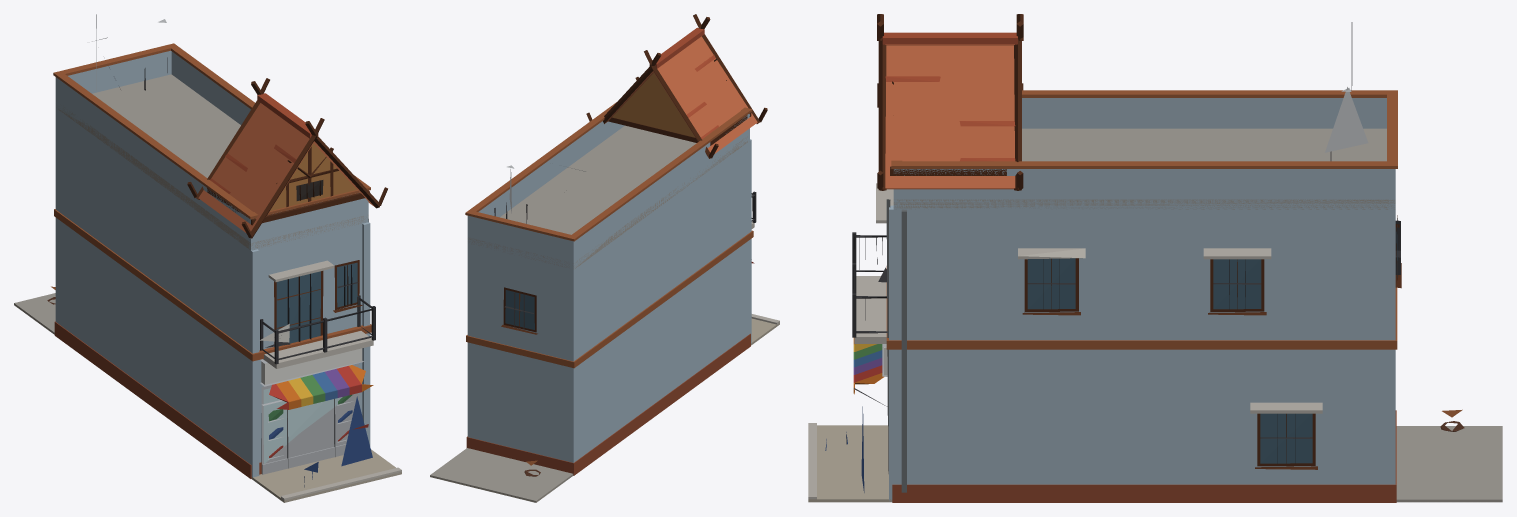
File: bay1_right.glb
3 renders of one model, left to right at view 1: azimuth 30°, elevation 25°; view 2: azimuth 150°, elevation 25°; view 3: azimuth 270°, elevation 25°, orthographic. The views are drawn at different scales.
Visible parts, largest first — view 1: body, windows; view 2: body, windows; view 3: body, windows.
Boxes of the visible parts, x1=… form: body: x1=14, y1=14, x2=401, y2=502; windows: x1=276, y1=180, x2=357, y2=346; body: x1=430, y1=14, x2=779, y2=502; windows: x1=505, y1=290, x2=534, y2=329; body: x1=808, y1=14, x2=1502, y2=502; windows: x1=1027, y1=218, x2=1397, y2=463.
Size of the model in its own units: 4.98 by 11.43 by 15.9.
